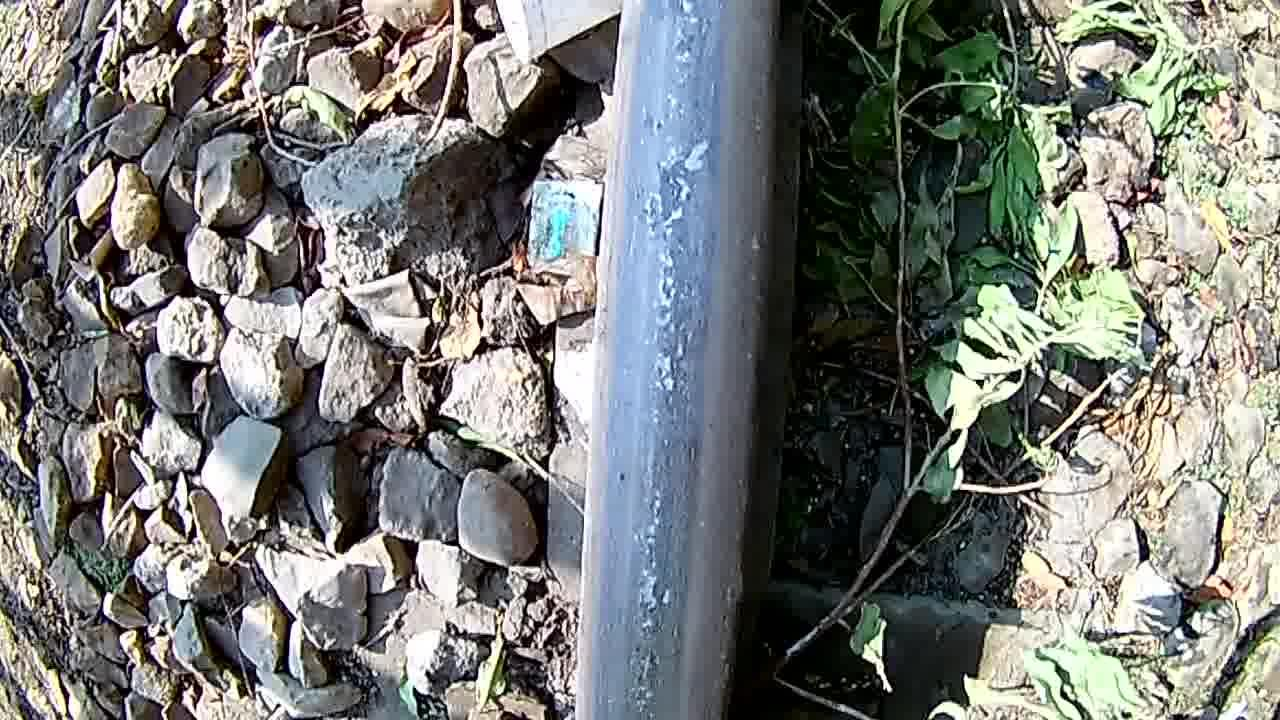crack: (609, 3, 776, 720)
